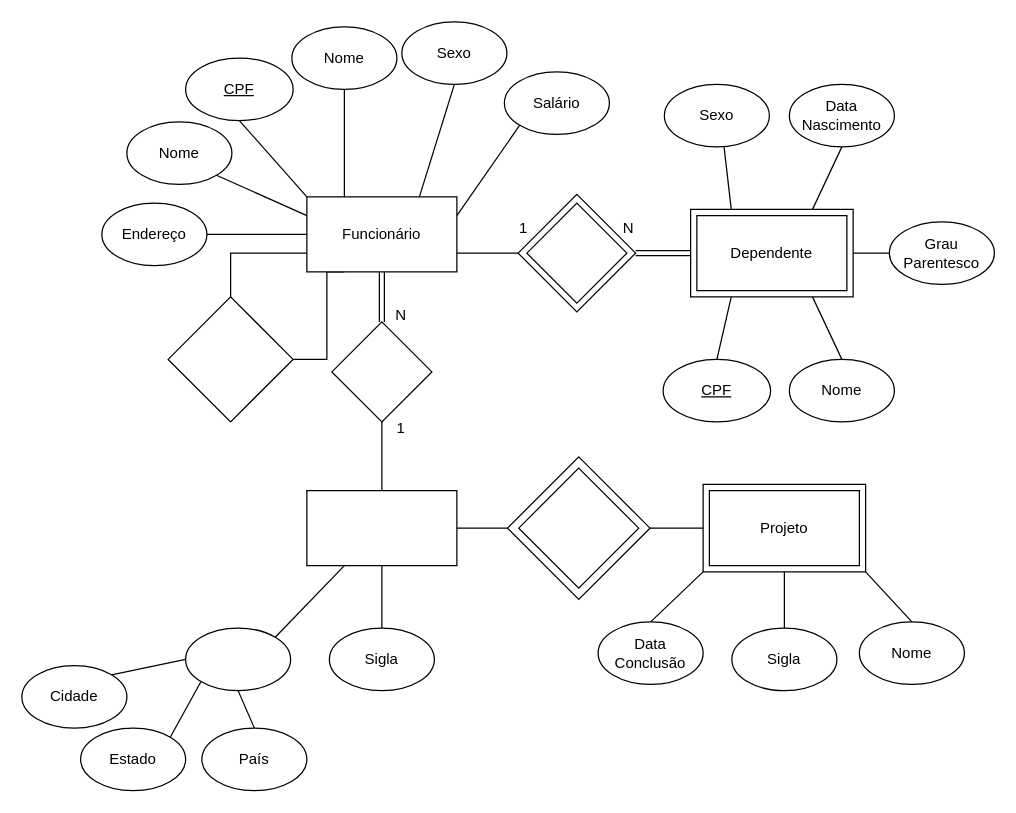
Image size: 1016x813. Some labels were removed from this diagram. Here are the shapes that lost their labels. From the top down, the centre of each, then its label:
the point at 576,252: possui
the point at 230,359: supervisiona
the point at 381,371: aloca
the point at 381,527: Departamentos
the point at 578,527: desenvolve
the point at 237,659: Locais
